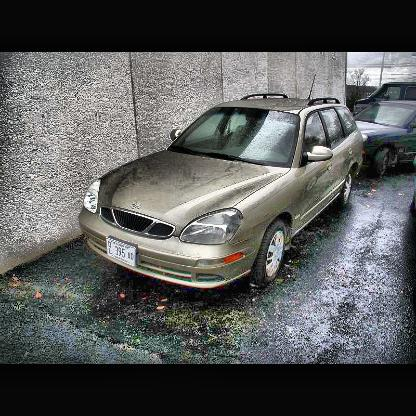Daewoo Nubira Wagon 2002: (84, 94, 364, 290)
